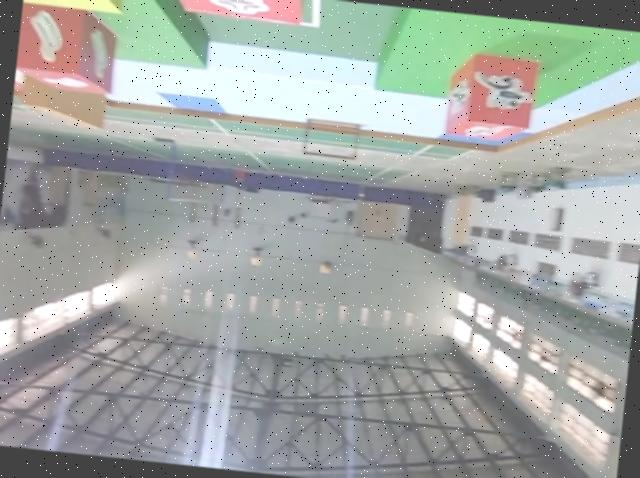R1: (444, 51, 538, 146)
R2 Fake: (151, 0, 301, 25)
R2 Real: (14, 0, 121, 95)
